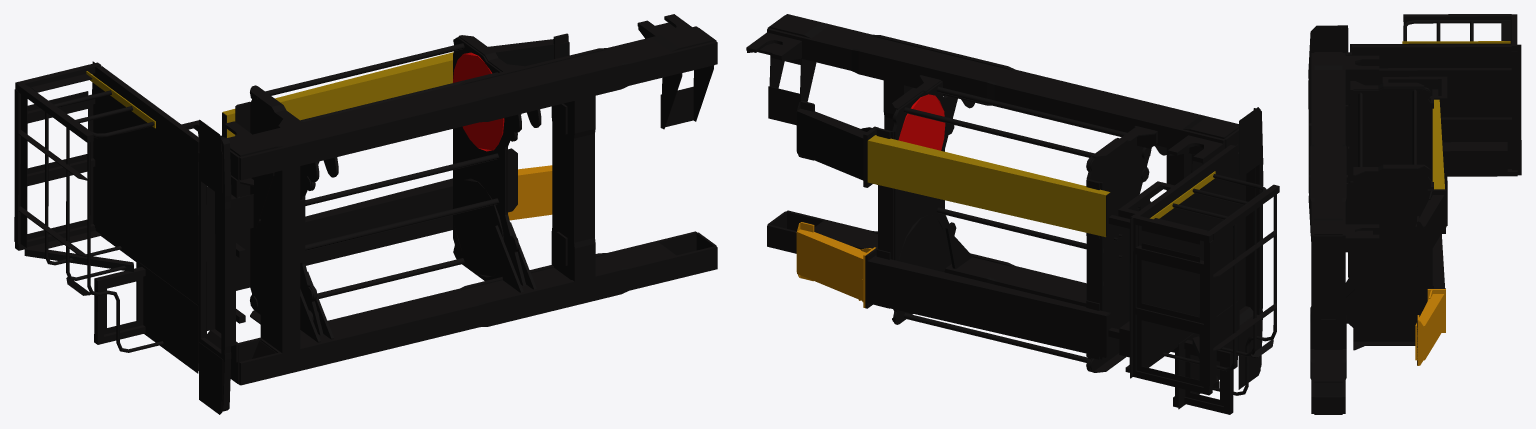
File: trolley.obj
3 renders of one model, left to right at view 1: azimuth 30°, elevation 25°; view 2: azimuth 150°, elevation 25°; view 3: azimuth 270°, elevation 25°, orthographic. The views are drawn at different scales.
Parts seen in each view (by area): view 1: trolley; view 2: trolley; view 3: trolley.
Boxes of the visible parts, x1,y1,x2,y2 form: trolley: [14, 14, 717, 414]; trolley: [746, 14, 1279, 414]; trolley: [1308, 14, 1521, 414].
Size of the model in its own units: 5.5 by 2.56 by 2.24.
